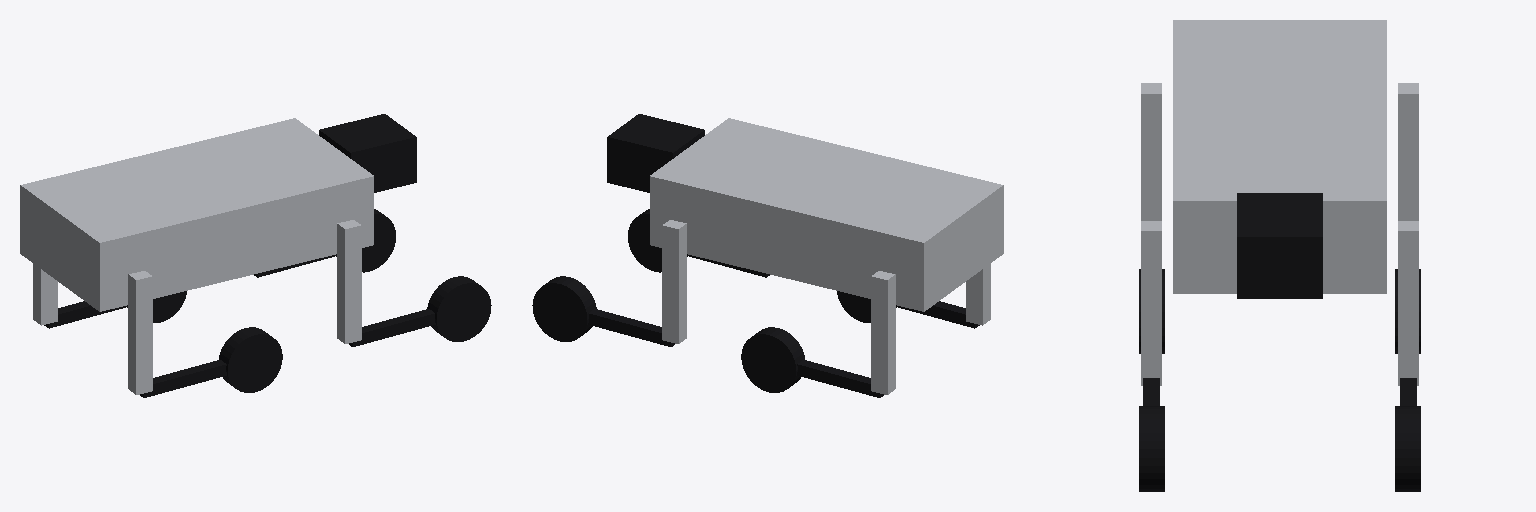
robot.urdf — quad_wheel_test:
<?xml version="1.0"?>
<!--
  The primitive quadruped of quad_test.urdf on wheels — botrail's offline
  stand-in for a Unitree Go2-W / B2-W: the same box body, nodding head and
  four 3-DOF legs, but each calf ends in an axle frame (`*_axle`, the gait's
  foot) carrying a continuous wheel joint (`*_wheel_joint`, the drive's)
  whose wheel has radius 0.05. Stance: hip 0, thigh 0.7, calf -1.4 puts each
  axle straight under its hip 0.306 m below the body, so the body stands
  0.356 m over the floor on its wheels.
-->
<robot name="quad_wheel_test">
  <link name="body">
    <visual>
      <geometry><box size="0.50 0.25 0.12"/></geometry>
      <material name="shell"><color rgba="0.75 0.76 0.78 1"/></material>
    </visual>
  </link>
  <link name="head">
    <visual>
      <origin xyz="0.06 0 0"/>
      <geometry><box size="0.12 0.10 0.08"/></geometry>
      <material name="dark"><color rgba="0.12 0.12 0.13 1"/></material>
    </visual>
  </link>
  <joint name="neck" type="revolute">
    <parent link="body"/><child link="head"/>
    <origin xyz="0.25 0 0.03"/>
    <axis xyz="0 1 0"/>
    <limit lower="-0.8" upper="0.8" effort="10" velocity="3"/>
  </joint>

  <link name="FL_hip">
    <visual>
      <origin rpy="1.5707963 0 0"/>
      <geometry><cylinder radius="0.035" length="0.06"/></geometry>
      <material name="dark"><color rgba="0.12 0.12 0.13 1"/></material>
    </visual>
  </link>
  <joint name="FL_hip_joint" type="revolute">
    <parent link="body"/><child link="FL_hip"/>
    <origin xyz="0.19 0.09 0"/>
    <axis xyz="1 0 0"/>
    <limit lower="-0.8" upper="0.8" effort="20" velocity="10"/>
  </joint>
  <link name="FL_thigh">
    <visual>
      <origin xyz="0 0 -0.1"/>
      <geometry><box size="0.03 0.025 0.20"/></geometry>
      <material name="shell"><color rgba="0.75 0.76 0.78 1"/></material>
    </visual>
  </link>
  <joint name="FL_thigh_joint" type="revolute">
    <parent link="FL_hip"/><child link="FL_thigh"/>
    <origin xyz="0 0.06 0"/>
    <axis xyz="0 1 0"/>
    <limit lower="-1.5" upper="3.0" effort="20" velocity="10"/>
  </joint>
  <link name="FL_calf">
    <visual>
      <origin xyz="0 0 -0.1"/>
      <geometry><box size="0.02 0.02 0.20"/></geometry>
      <material name="dark"><color rgba="0.12 0.12 0.13 1"/></material>
    </visual>
  </link>
  <joint name="FL_calf_joint" type="revolute">
    <parent link="FL_thigh"/><child link="FL_calf"/>
    <origin xyz="0 0 -0.2"/>
    <axis xyz="0 1 0"/>
    <limit lower="-2.6" upper="-0.6" effort="20" velocity="10"/>
  </joint>
  <link name="FL_axle"/>
  <joint name="FL_axle_joint" type="fixed">
    <parent link="FL_calf"/><child link="FL_axle"/>
    <origin xyz="0 0 -0.2"/>
  </joint>
  <link name="FL_wheel">
    <visual>
      <origin rpy="1.5707963 0 0"/>
      <geometry><cylinder radius="0.05" length="0.03"/></geometry>
      <material name="dark"><color rgba="0.12 0.12 0.13 1"/></material>
    </visual>
    <collision>
      <origin rpy="1.5707963 0 0"/>
      <geometry><cylinder radius="0.05" length="0.03"/></geometry>
    </collision>
  </link>
  <joint name="FL_wheel_joint" type="continuous">
    <parent link="FL_calf"/><child link="FL_wheel"/>
    <origin xyz="0 0 -0.2"/>
    <axis xyz="0 1 0"/>
    <limit effort="10" velocity="30"/>
  </joint>

  <link name="FR_hip">
    <visual>
      <origin rpy="1.5707963 0 0"/>
      <geometry><cylinder radius="0.035" length="0.06"/></geometry>
      <material name="dark"><color rgba="0.12 0.12 0.13 1"/></material>
    </visual>
  </link>
  <joint name="FR_hip_joint" type="revolute">
    <parent link="body"/><child link="FR_hip"/>
    <origin xyz="0.19 -0.09 0"/>
    <axis xyz="1 0 0"/>
    <limit lower="-0.8" upper="0.8" effort="20" velocity="10"/>
  </joint>
  <link name="FR_thigh">
    <visual>
      <origin xyz="0 0 -0.1"/>
      <geometry><box size="0.03 0.025 0.20"/></geometry>
      <material name="shell"><color rgba="0.75 0.76 0.78 1"/></material>
    </visual>
  </link>
  <joint name="FR_thigh_joint" type="revolute">
    <parent link="FR_hip"/><child link="FR_thigh"/>
    <origin xyz="0 -0.06 0"/>
    <axis xyz="0 1 0"/>
    <limit lower="-1.5" upper="3.0" effort="20" velocity="10"/>
  </joint>
  <link name="FR_calf">
    <visual>
      <origin xyz="0 0 -0.1"/>
      <geometry><box size="0.02 0.02 0.20"/></geometry>
      <material name="dark"><color rgba="0.12 0.12 0.13 1"/></material>
    </visual>
  </link>
  <joint name="FR_calf_joint" type="revolute">
    <parent link="FR_thigh"/><child link="FR_calf"/>
    <origin xyz="0 0 -0.2"/>
    <axis xyz="0 1 0"/>
    <limit lower="-2.6" upper="-0.6" effort="20" velocity="10"/>
  </joint>
  <link name="FR_axle"/>
  <joint name="FR_axle_joint" type="fixed">
    <parent link="FR_calf"/><child link="FR_axle"/>
    <origin xyz="0 0 -0.2"/>
  </joint>
  <link name="FR_wheel">
    <visual>
      <origin rpy="1.5707963 0 0"/>
      <geometry><cylinder radius="0.05" length="0.03"/></geometry>
      <material name="dark"><color rgba="0.12 0.12 0.13 1"/></material>
    </visual>
    <collision>
      <origin rpy="1.5707963 0 0"/>
      <geometry><cylinder radius="0.05" length="0.03"/></geometry>
    </collision>
  </link>
  <joint name="FR_wheel_joint" type="continuous">
    <parent link="FR_calf"/><child link="FR_wheel"/>
    <origin xyz="0 0 -0.2"/>
    <axis xyz="0 1 0"/>
    <limit effort="10" velocity="30"/>
  </joint>

  <link name="RL_hip">
    <visual>
      <origin rpy="1.5707963 0 0"/>
      <geometry><cylinder radius="0.035" length="0.06"/></geometry>
      <material name="dark"><color rgba="0.12 0.12 0.13 1"/></material>
    </visual>
  </link>
  <joint name="RL_hip_joint" type="revolute">
    <parent link="body"/><child link="RL_hip"/>
    <origin xyz="-0.19 0.09 0"/>
    <axis xyz="1 0 0"/>
    <limit lower="-0.8" upper="0.8" effort="20" velocity="10"/>
  </joint>
  <link name="RL_thigh">
    <visual>
      <origin xyz="0 0 -0.1"/>
      <geometry><box size="0.03 0.025 0.20"/></geometry>
      <material name="shell"><color rgba="0.75 0.76 0.78 1"/></material>
    </visual>
  </link>
  <joint name="RL_thigh_joint" type="revolute">
    <parent link="RL_hip"/><child link="RL_thigh"/>
    <origin xyz="0 0.06 0"/>
    <axis xyz="0 1 0"/>
    <limit lower="-1.5" upper="3.0" effort="20" velocity="10"/>
  </joint>
  <link name="RL_calf">
    <visual>
      <origin xyz="0 0 -0.1"/>
      <geometry><box size="0.02 0.02 0.20"/></geometry>
      <material name="dark"><color rgba="0.12 0.12 0.13 1"/></material>
    </visual>
  </link>
  <joint name="RL_calf_joint" type="revolute">
    <parent link="RL_thigh"/><child link="RL_calf"/>
    <origin xyz="0 0 -0.2"/>
    <axis xyz="0 1 0"/>
    <limit lower="-2.6" upper="-0.6" effort="20" velocity="10"/>
  </joint>
  <link name="RL_axle"/>
  <joint name="RL_axle_joint" type="fixed">
    <parent link="RL_calf"/><child link="RL_axle"/>
    <origin xyz="0 0 -0.2"/>
  </joint>
  <link name="RL_wheel">
    <visual>
      <origin rpy="1.5707963 0 0"/>
      <geometry><cylinder radius="0.05" length="0.03"/></geometry>
      <material name="dark"><color rgba="0.12 0.12 0.13 1"/></material>
    </visual>
    <collision>
      <origin rpy="1.5707963 0 0"/>
      <geometry><cylinder radius="0.05" length="0.03"/></geometry>
    </collision>
  </link>
  <joint name="RL_wheel_joint" type="continuous">
    <parent link="RL_calf"/><child link="RL_wheel"/>
    <origin xyz="0 0 -0.2"/>
    <axis xyz="0 1 0"/>
    <limit effort="10" velocity="30"/>
  </joint>

  <link name="RR_hip">
    <visual>
      <origin rpy="1.5707963 0 0"/>
      <geometry><cylinder radius="0.035" length="0.06"/></geometry>
      <material name="dark"><color rgba="0.12 0.12 0.13 1"/></material>
    </visual>
  </link>
  <joint name="RR_hip_joint" type="revolute">
    <parent link="body"/><child link="RR_hip"/>
    <origin xyz="-0.19 -0.09 0"/>
    <axis xyz="1 0 0"/>
    <limit lower="-0.8" upper="0.8" effort="20" velocity="10"/>
  </joint>
  <link name="RR_thigh">
    <visual>
      <origin xyz="0 0 -0.1"/>
      <geometry><box size="0.03 0.025 0.20"/></geometry>
      <material name="shell"><color rgba="0.75 0.76 0.78 1"/></material>
    </visual>
  </link>
  <joint name="RR_thigh_joint" type="revolute">
    <parent link="RR_hip"/><child link="RR_thigh"/>
    <origin xyz="0 -0.06 0"/>
    <axis xyz="0 1 0"/>
    <limit lower="-1.5" upper="3.0" effort="20" velocity="10"/>
  </joint>
  <link name="RR_calf">
    <visual>
      <origin xyz="0 0 -0.1"/>
      <geometry><box size="0.02 0.02 0.20"/></geometry>
      <material name="dark"><color rgba="0.12 0.12 0.13 1"/></material>
    </visual>
  </link>
  <joint name="RR_calf_joint" type="revolute">
    <parent link="RR_thigh"/><child link="RR_calf"/>
    <origin xyz="0 0 -0.2"/>
    <axis xyz="0 1 0"/>
    <limit lower="-2.6" upper="-0.6" effort="20" velocity="10"/>
  </joint>
  <link name="RR_axle"/>
  <joint name="RR_axle_joint" type="fixed">
    <parent link="RR_calf"/><child link="RR_axle"/>
    <origin xyz="0 0 -0.2"/>
  </joint>
  <link name="RR_wheel">
    <visual>
      <origin rpy="1.5707963 0 0"/>
      <geometry><cylinder radius="0.05" length="0.03"/></geometry>
      <material name="dark"><color rgba="0.12 0.12 0.13 1"/></material>
    </visual>
    <collision>
      <origin rpy="1.5707963 0 0"/>
      <geometry><cylinder radius="0.05" length="0.03"/></geometry>
    </collision>
  </link>
  <joint name="RR_wheel_joint" type="continuous">
    <parent link="RR_calf"/><child link="RR_wheel"/>
    <origin xyz="0 0 -0.2"/>
    <axis xyz="0 1 0"/>
    <limit effort="10" velocity="30"/>
  </joint>
</robot>

--- Facts derived from the render (not from the file) ---
3 views of the same robot in one strip: view 1: azimuth 30°, elevation 25°; view 2: azimuth 150°, elevation 25°; view 3: azimuth 270°, elevation 25° (orthographic).
Model quad_wheel_test with 22 links and 21 joints (13 revolute, 4 continuous, 4 fixed), rooted at body, posed all joints at 0 but 4 set to mid-range because 0 is outside their limits (FL_calf_joint = -1.6, FR_calf_joint = -1.6, RL_calf_joint = -1.6, RR_calf_joint = -1.6).
Links seen in each view (by area): view 1: body, head, RR_wheel, FR_wheel, FR_thigh, RR_thigh, RR_calf, FR_calf, FL_wheel, RL_thigh, RL_calf, RL_wheel; view 2: body, head, RL_wheel, FL_wheel, FL_thigh, RL_thigh, RL_calf, FL_calf, FR_wheel, RR_thigh, RR_calf, RR_wheel; view 3: body, head, FL_thigh, FR_thigh, RL_thigh, RR_thigh, FL_wheel, FR_wheel.
Boxes of the visible links, bbox=[...] form: body: bbox=[20, 118, 373, 311]; head: bbox=[319, 114, 416, 192]; RR_wheel: bbox=[219, 327, 282, 392]; FR_wheel: bbox=[427, 276, 491, 341]; FR_thigh: bbox=[337, 220, 361, 343]; RR_thigh: bbox=[128, 271, 152, 394]; RR_calf: bbox=[140, 360, 226, 397]; FR_calf: bbox=[349, 309, 435, 346]; FL_wheel: bbox=[336, 209, 395, 272]; RL_thigh: bbox=[33, 264, 57, 325]; RL_calf: bbox=[44, 301, 127, 328]; RL_wheel: bbox=[127, 291, 186, 322]; body: bbox=[650, 118, 1003, 311]; head: bbox=[607, 114, 704, 192]; RL_wheel: bbox=[741, 327, 804, 392]; FL_wheel: bbox=[532, 276, 596, 341]; FL_thigh: bbox=[662, 220, 686, 343]; RL_thigh: bbox=[871, 271, 895, 394]; RL_calf: bbox=[797, 360, 883, 397]; FL_calf: bbox=[588, 309, 674, 346]; FR_wheel: bbox=[628, 209, 687, 272]; RR_thigh: bbox=[966, 264, 990, 325]; RR_calf: bbox=[896, 301, 979, 328]; RR_wheel: bbox=[837, 291, 896, 322]; body: bbox=[1173, 20, 1386, 293]; head: bbox=[1237, 193, 1322, 298]; FL_thigh: bbox=[1398, 221, 1418, 385]; FR_thigh: bbox=[1141, 221, 1161, 385]; RL_thigh: bbox=[1398, 83, 1418, 220]; RR_thigh: bbox=[1141, 83, 1161, 220]; FL_wheel: bbox=[1395, 406, 1420, 491]; FR_wheel: bbox=[1139, 406, 1164, 491].
Size in the robot's own frame: 0.6899 by 0.33 by 0.3141 metres.
Geometry: primitives only (box / cylinder / sphere), no mesh files.
